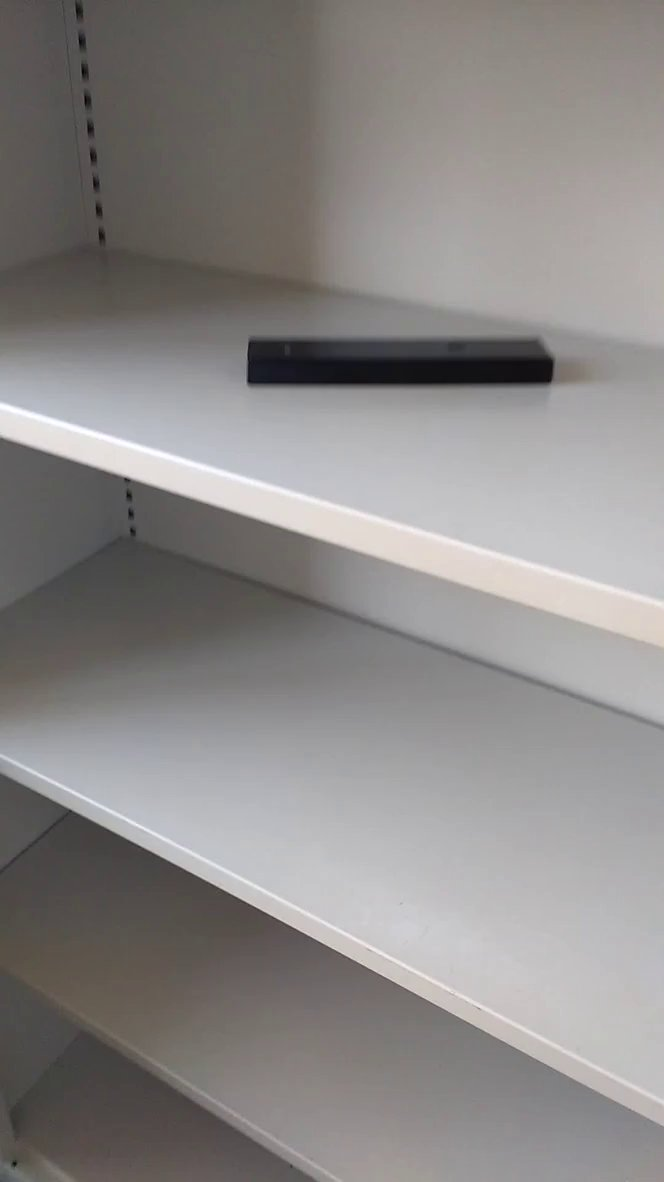remote: (223, 323, 588, 445)
